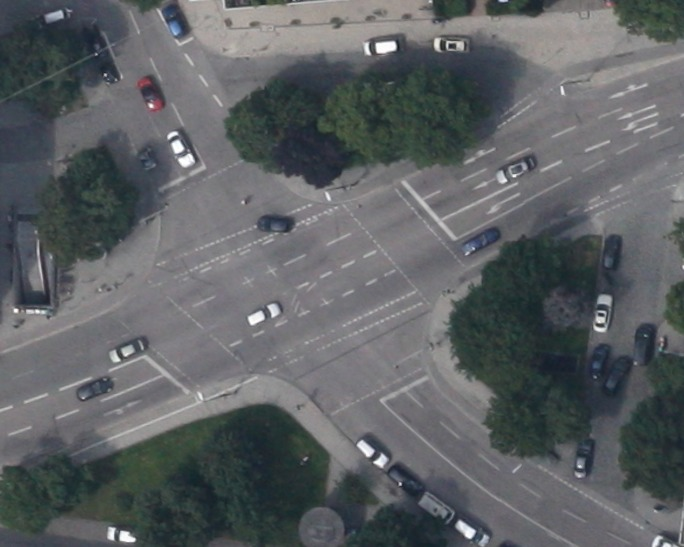car: (415, 489, 455, 526), (385, 462, 423, 498), (163, 127, 195, 169), (450, 513, 488, 547), (493, 155, 535, 185), (600, 356, 632, 395), (459, 226, 500, 256), (354, 436, 390, 470), (32, 3, 72, 30), (159, 3, 188, 39), (244, 300, 281, 328), (632, 323, 656, 366), (136, 75, 163, 113), (107, 337, 145, 363), (75, 376, 113, 402), (591, 292, 613, 333), (586, 345, 610, 381), (571, 437, 592, 478), (600, 231, 622, 270), (95, 55, 121, 86), (361, 36, 400, 56), (105, 523, 139, 543), (432, 36, 469, 53), (257, 214, 291, 232), (137, 146, 157, 171)
